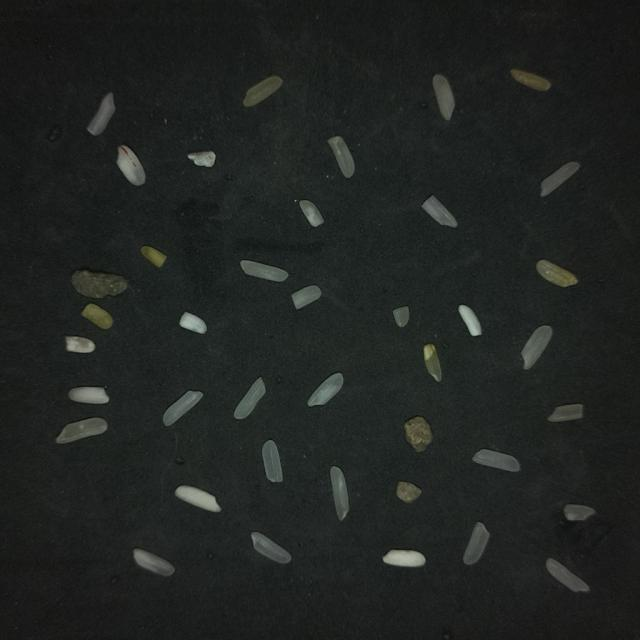broken: (86, 91, 114, 135), (421, 195, 456, 227), (327, 135, 353, 177), (291, 285, 320, 308), (299, 200, 323, 225), (547, 403, 582, 420), (178, 311, 205, 333), (563, 503, 595, 520), (65, 335, 94, 352), (187, 150, 215, 166), (392, 306, 410, 328)
chalky: (175, 485, 220, 511), (116, 145, 144, 184), (382, 548, 425, 566), (458, 304, 482, 336), (69, 386, 109, 404)
discolored: (243, 75, 282, 105), (536, 259, 577, 286), (510, 68, 550, 90), (81, 303, 112, 328), (423, 343, 440, 380), (140, 245, 165, 267)
foreign: (71, 270, 127, 297), (403, 416, 431, 450), (396, 481, 420, 502)
whole: (545, 557, 589, 590), (162, 390, 202, 425), (521, 325, 552, 369), (540, 161, 579, 195), (233, 376, 264, 418), (55, 417, 106, 442), (251, 531, 290, 562), (307, 372, 342, 405), (463, 521, 489, 564), (133, 548, 174, 575), (472, 448, 519, 471), (431, 73, 454, 119), (330, 465, 348, 520), (240, 259, 287, 280), (261, 439, 282, 481)
